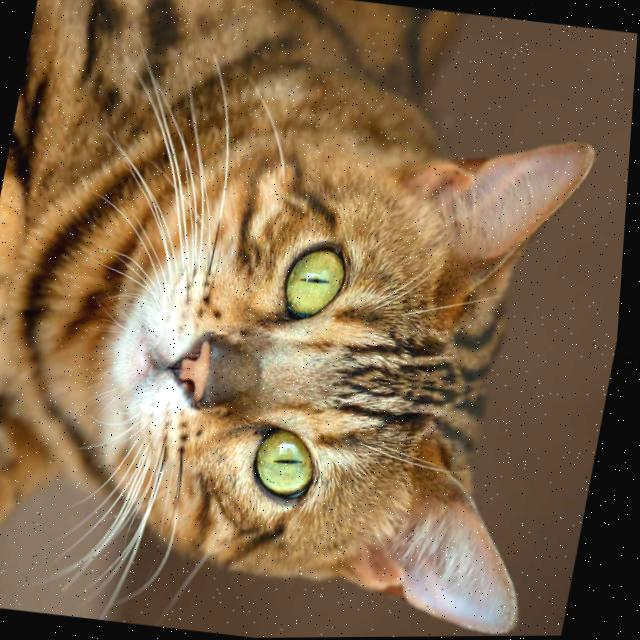Toyger: (0, 0, 638, 640)
